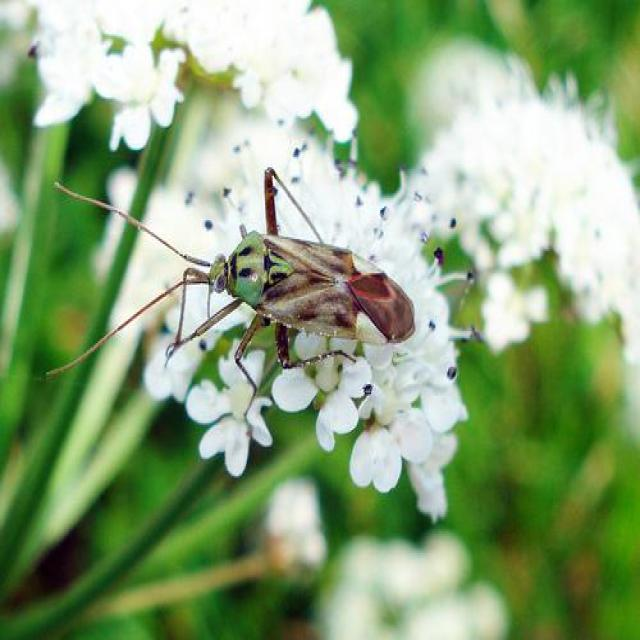Miridae-Adult-: (36, 153, 422, 383)
